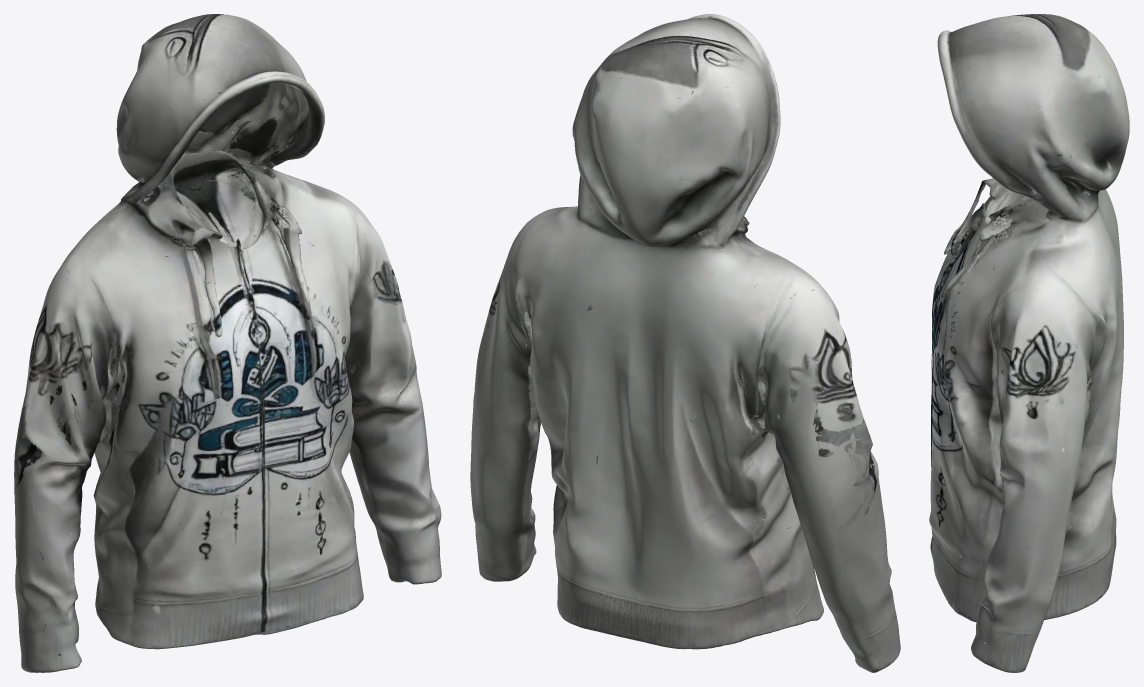
Rendered from hoodie-mindfull-transformed.glb.
3 renders of one model, left to right at view 1: azimuth 30°, elevation 25°; view 2: azimuth 150°, elevation 25°; view 3: azimuth 270°, elevation 25°, orthographic. The views are drawn at different scales.
Parts seen in each view (by area): view 1: Mesh_0.002; view 2: Mesh_0.002; view 3: Mesh_0.002.
Part boxes in pixels (bbox=[...]): Mesh_0.002: bbox=[14, 14, 441, 672]; Mesh_0.002: bbox=[470, 14, 900, 672]; Mesh_0.002: bbox=[929, 14, 1129, 672].
Size of the model in its own units: 1.45 by 2 by 0.6469.
1 material, 1 textured.
